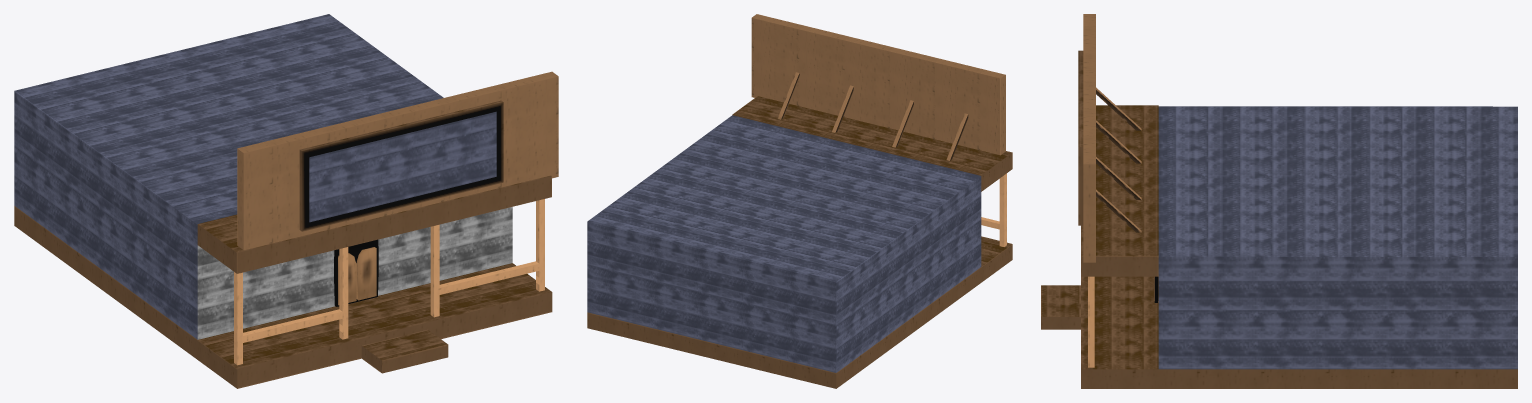
Rendered from Building2.glb.
3 views of the same model, side by side, from view 1: azimuth 30°, elevation 25°; view 2: azimuth 150°, elevation 25°; view 3: azimuth 270°, elevation 25° (orthographic). The views are drawn at different scales.
Parts seen in each view (by area): view 1: Cube.009, Cube.001; view 2: Cube.009, Cube.001; view 3: Cube.009, Cube.001.
Part boxes in pixels (<box>): Cube.009: <box>14,14,558,388</box>; Cube.001: <box>234,199,544,365</box>; Cube.009: <box>587,14,1012,388</box>; Cube.001: <box>981,173,1006,246</box>; Cube.009: <box>1041,14,1517,388</box>; Cube.001: <box>1088,276,1158,367</box>.
Size of the model in its own units: 14.11 by 9.74 by 18.44.
Materials: 1 (1 with a texture image).
